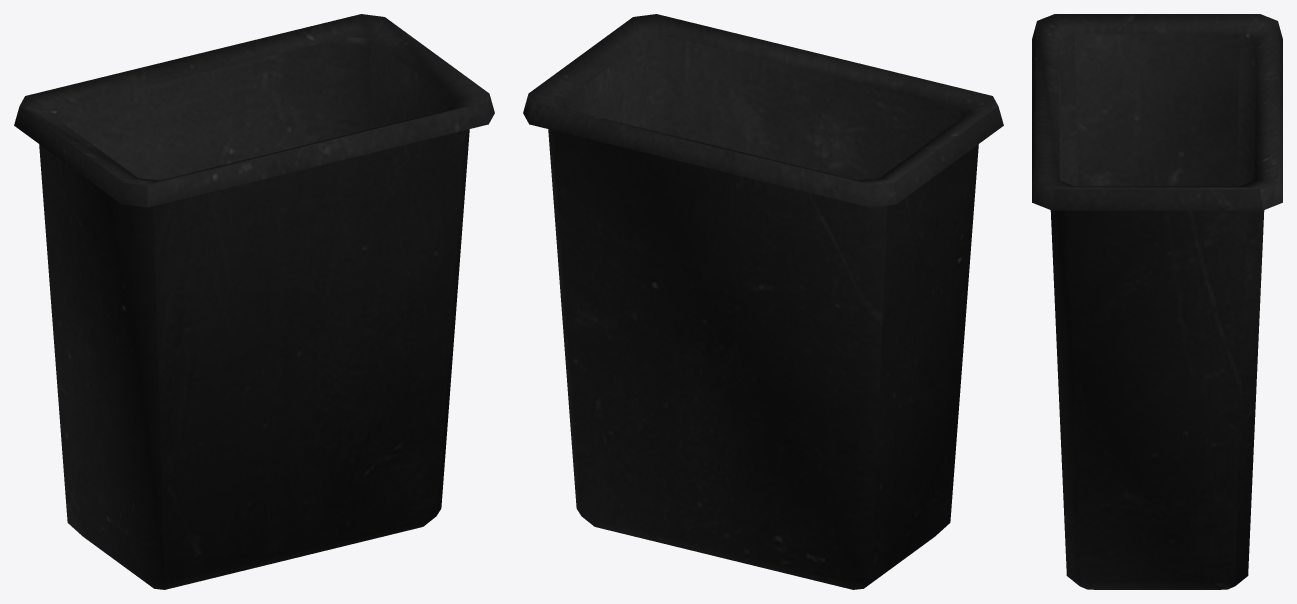
The model's file is Office_TrashBin_1.fbx.
3 renders of one model, left to right at view 1: azimuth 30°, elevation 25°; view 2: azimuth 150°, elevation 25°; view 3: azimuth 270°, elevation 25°, orthographic.
Parts seen in each view (by area): view 1: Office_TrashBin_1; view 2: Office_TrashBin_1; view 3: Office_TrashBin_1.
Part boxes in pixels (x1,y1,x2,y2): Office_TrashBin_1: [14, 14, 494, 589]; Office_TrashBin_1: [523, 14, 1003, 589]; Office_TrashBin_1: [1032, 14, 1282, 589].
Size of the model in its own units: 43.48 by 48.69 by 25.71.
